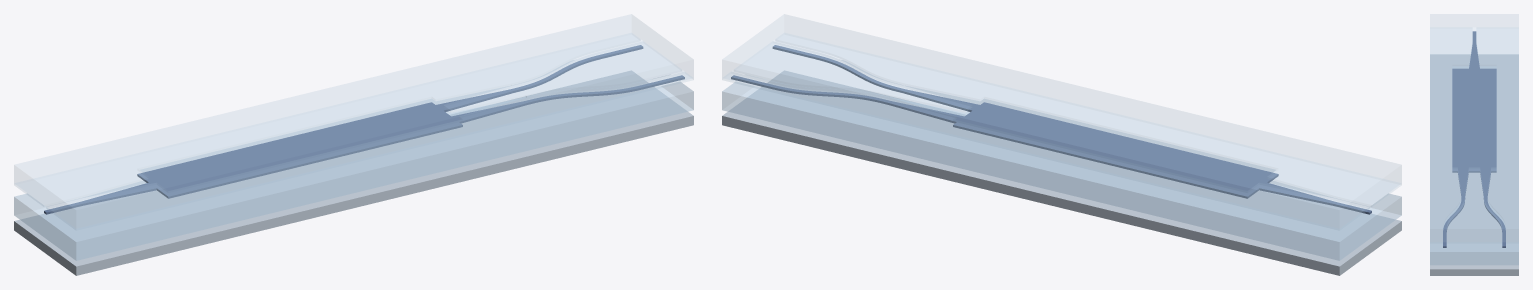
File: stack-mmi-x.glb
The picture shows the model from 3 angles, left to right: view 1: azimuth 30°, elevation 25°; view 2: azimuth 150°, elevation 25°; view 3: azimuth 270°, elevation 25°; orthographic projection. The views are drawn at different scales.
Parts seen in each view (by area): view 1: cladd, sisub, box, siwg; view 2: cladd, sisub, box, siwg; view 3: cladd, sisub, siwg, box.
Boxes of the visible parts, x1,y1,x2,y2 form: cladd: (14,14,693,230); sisub: (14,70,693,275); box: (14,60,693,260); siwg: (44,45,684,214); cladd: (722,14,1401,230); sisub: (722,70,1401,275); box: (722,60,1401,260); siwg: (731,45,1371,214); cladd: (1430,14,1518,242); sisub: (1430,54,1518,275); siwg: (1443,31,1505,247); box: (1430,49,1518,265).
Bounding box in the file's own units: 68.8 × 7 × 12.
